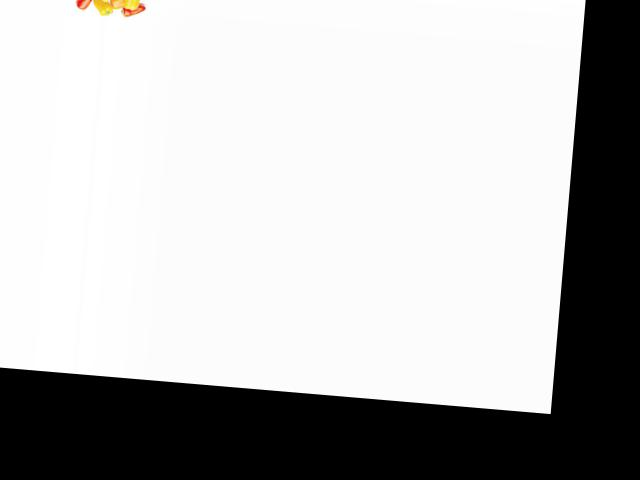bell_pepper: (119, 4, 148, 19)
